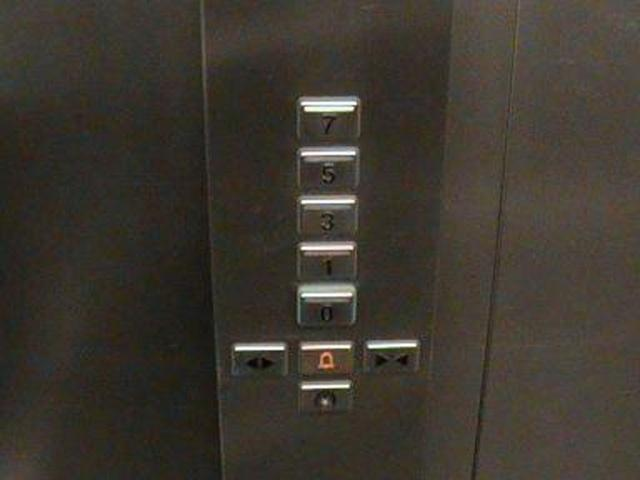0: (294, 283, 358, 326)
1: (294, 241, 358, 279)
3: (295, 194, 358, 237)
5: (296, 147, 358, 191)
7: (295, 94, 361, 142)
alarm: (295, 338, 354, 376)
close: (361, 337, 422, 377)
keyhole: (296, 379, 354, 416)
open: (229, 340, 287, 379)
